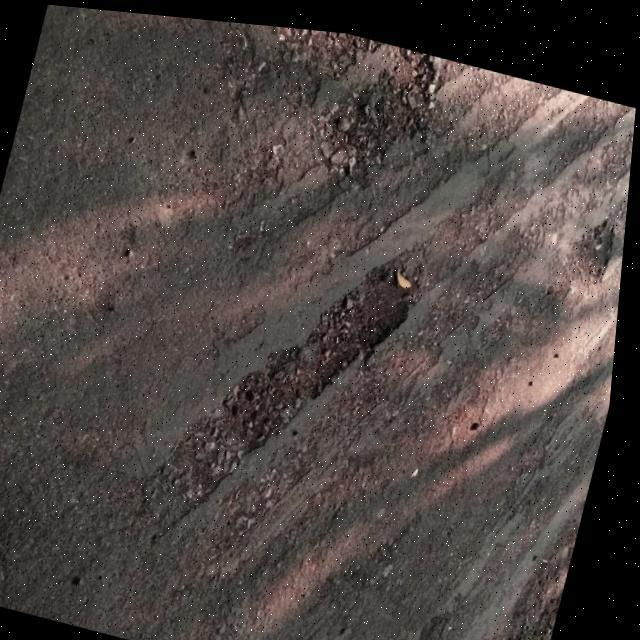pothole: (215, 212, 429, 478), (315, 25, 448, 186), (568, 197, 624, 275)
